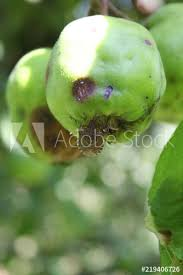damaged_apple: (47, 18, 165, 143), (6, 48, 107, 168)
